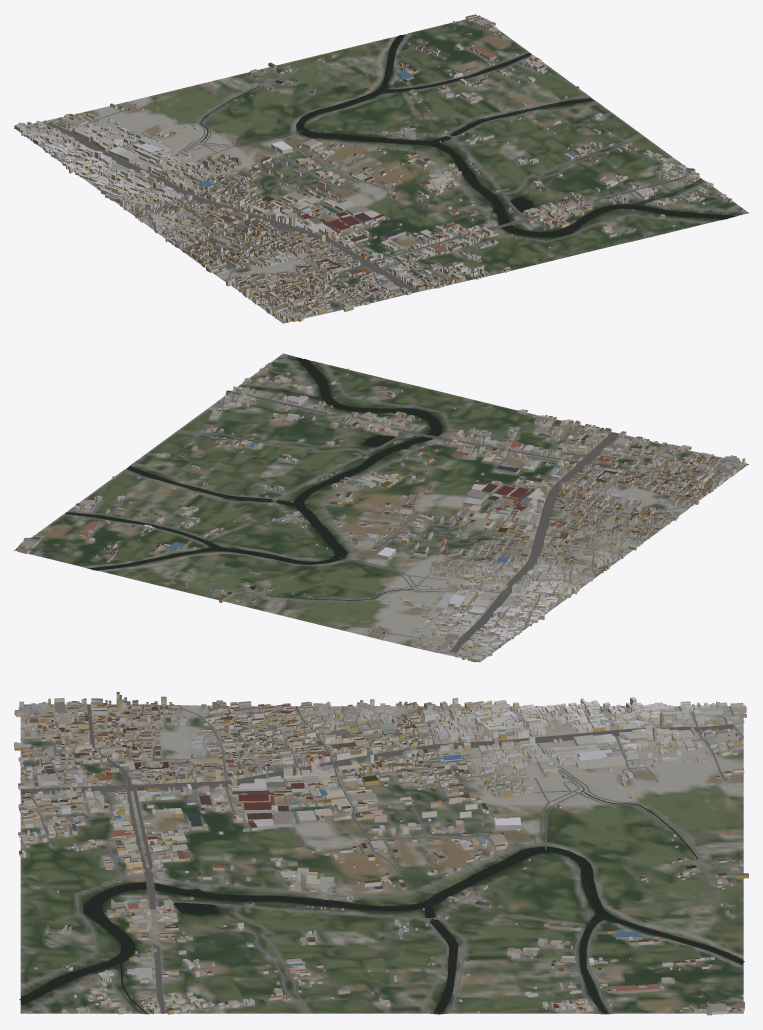
3 renders of one model, top to bottom at view 1: azimuth 30°, elevation 25°; view 2: azimuth 150°, elevation 25°; view 3: azimuth 270°, elevation 25°, orthographic. The views are drawn at different scales.
Parts seen in each view (by area): view 1: ground, buildings, roads, water; view 2: ground, buildings, roads, water; view 3: ground, buildings, roads, water.
Boxes of the visible parts, <box> form: ground: <box>14,17,748,323</box>; buildings: <box>14,14,743,322</box>; roads: <box>16,33,748,323</box>; water: <box>176,34,734,236</box>; ground: <box>14,354,748,662</box>; buildings: <box>16,355,745,662</box>; roads: <box>63,353,748,660</box>; water: <box>65,357,453,600</box>; ground: <box>20,704,743,1014</box>; buildings: <box>14,692,748,1015</box>; roads: <box>20,704,744,1013</box>; water: <box>19,770,744,1014</box>.
Size of the model in its own units: 1421 by 38.45 by 1424.
